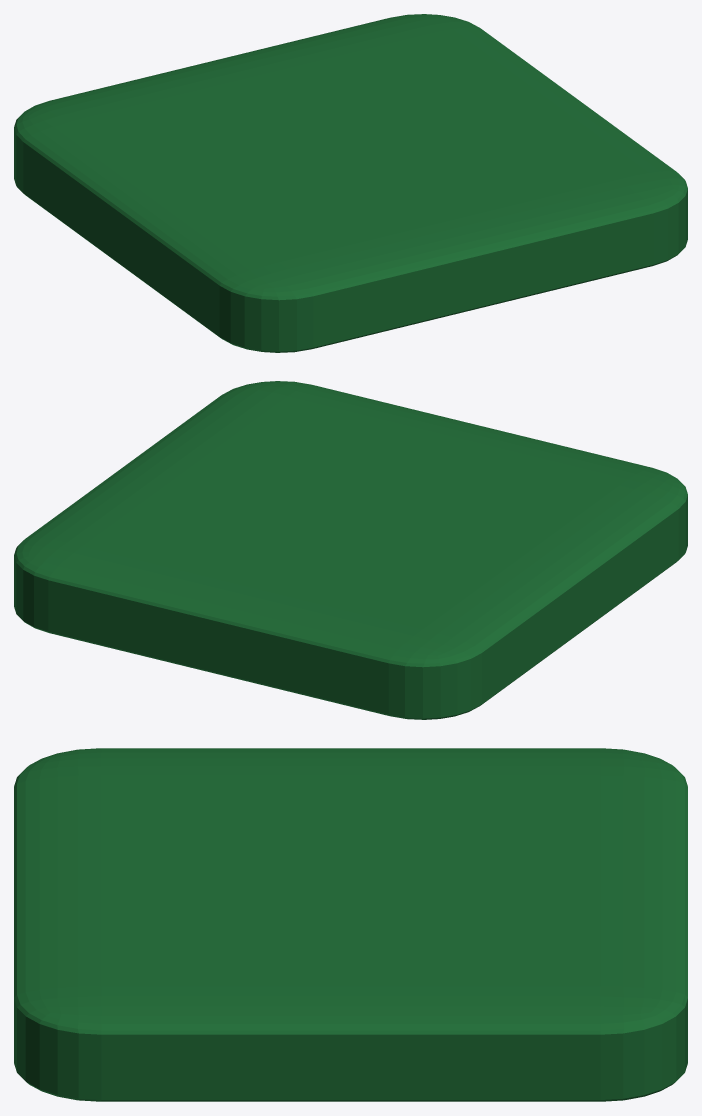
The model's file is button_base.fbx.
3 renders of one model, top to bottom at view 1: azimuth 30°, elevation 25°; view 2: azimuth 150°, elevation 25°; view 3: azimuth 270°, elevation 25°, orthographic. The views are drawn at different scales.
Parts seen in each view (by area): view 1: Cube.001; view 2: Cube.001; view 3: Cube.001.
Part boxes in pixels (left/top/right/bottom): Cube.001: left=14, top=14, right=687, bottom=352; Cube.001: left=14, top=381, right=687, bottom=719; Cube.001: left=14, top=748, right=687, bottom=1101.
Bounding box in the file's own units: 236 × 34.13 × 236.
